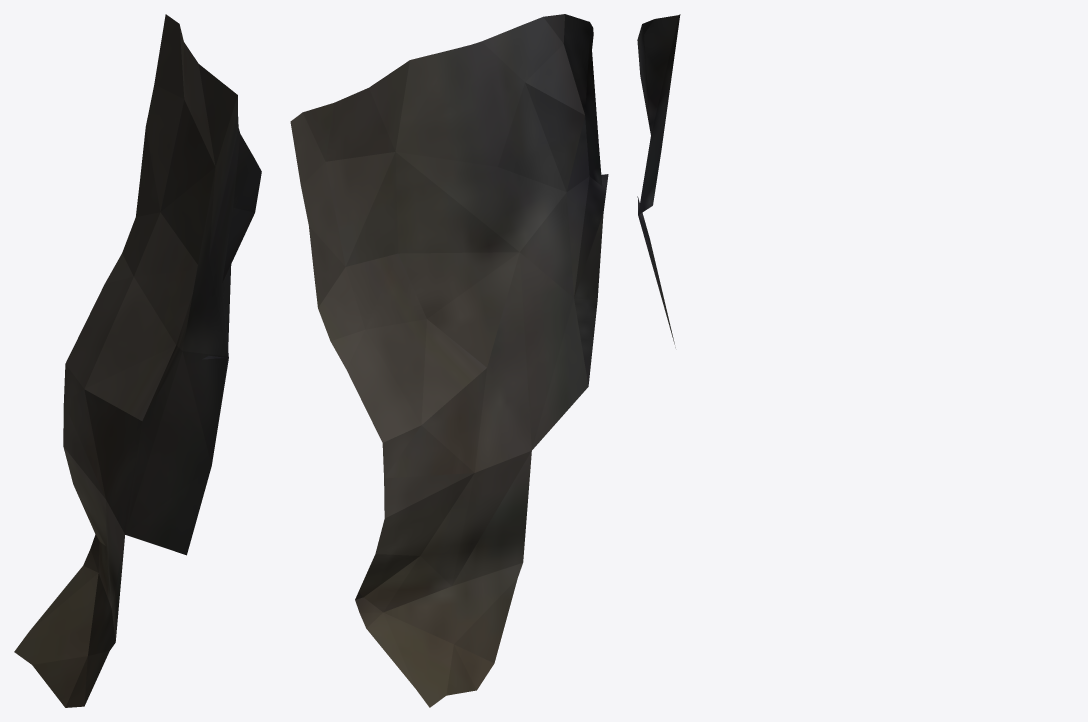
The picture shows the model from 3 angles, left to right: view 1: azimuth 30°, elevation 25°; view 2: azimuth 150°, elevation 25°; view 3: azimuth 270°, elevation 25°; orthographic projection. The views are drawn at different scales.
Size of the model in its own units: 0.0577 by 0.2247 by 0.128.
Materials: 1 (1 with a texture image).
